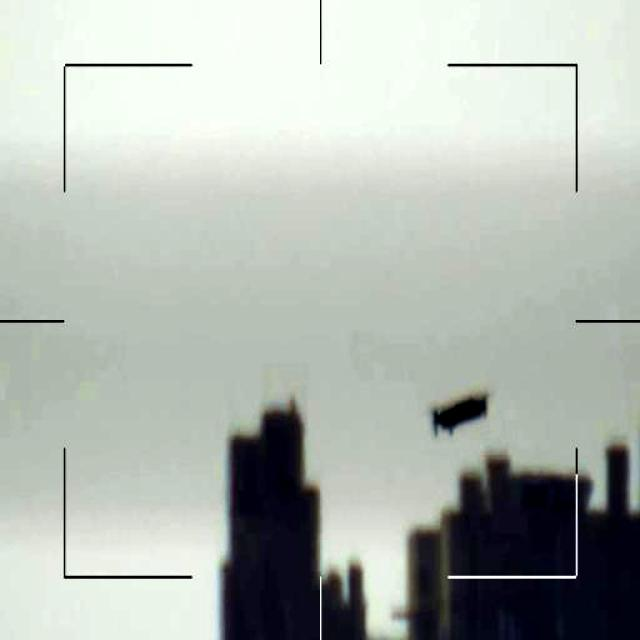bird: (428, 388, 489, 440)
